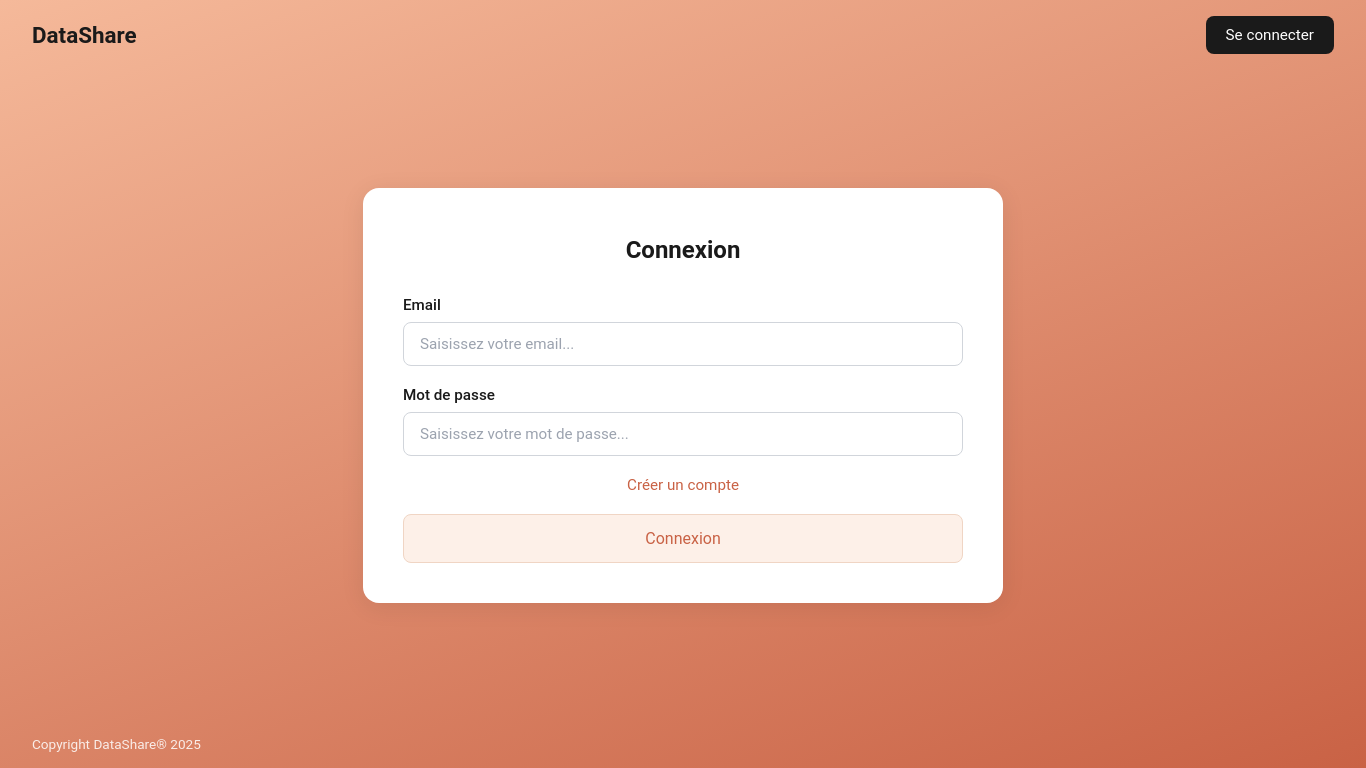
Scenario: register and login › Login with bad password
Type "fonctionalUserLogin@gmail.com" into the field named "email". click: x=683, y=344
box: [403,322,963,366]
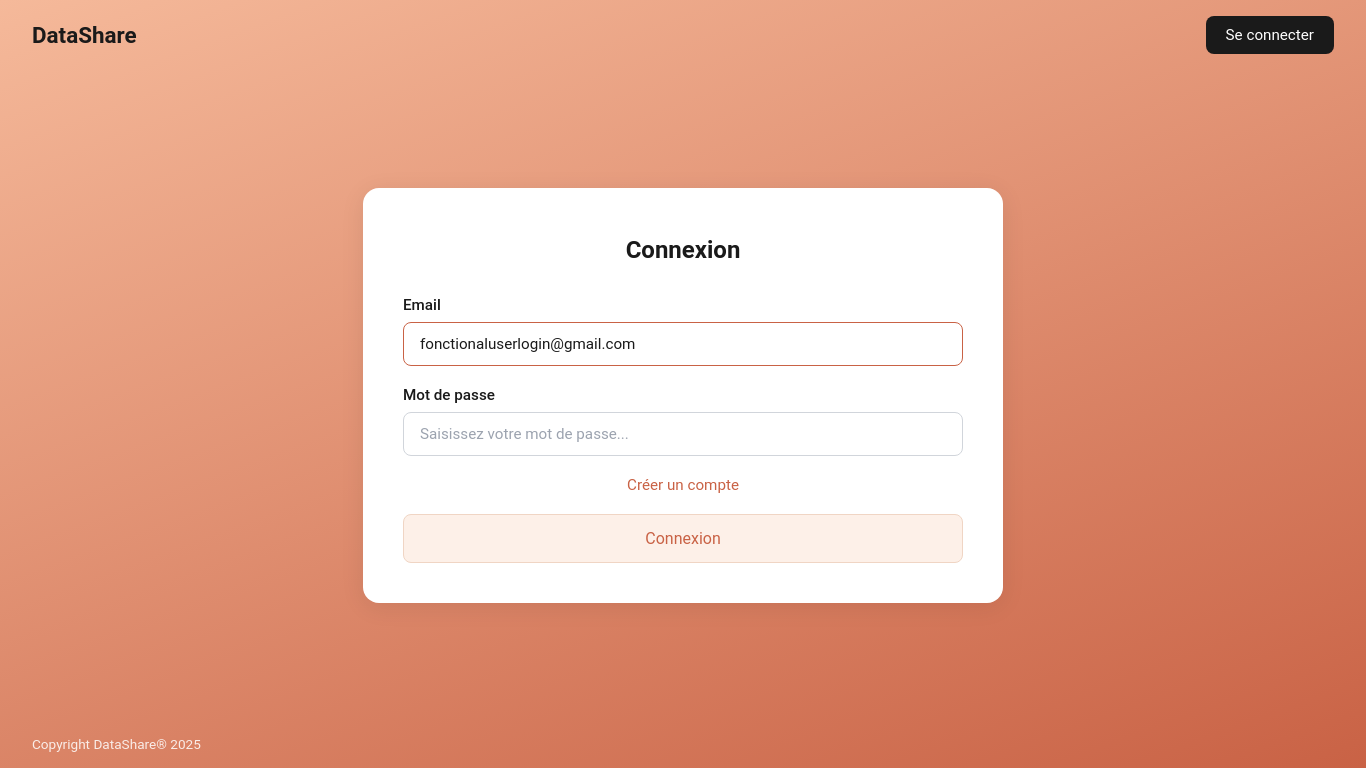
Type "badPassword" into the password field named "password". click: x=683, y=434
box: [403,412,963,456]
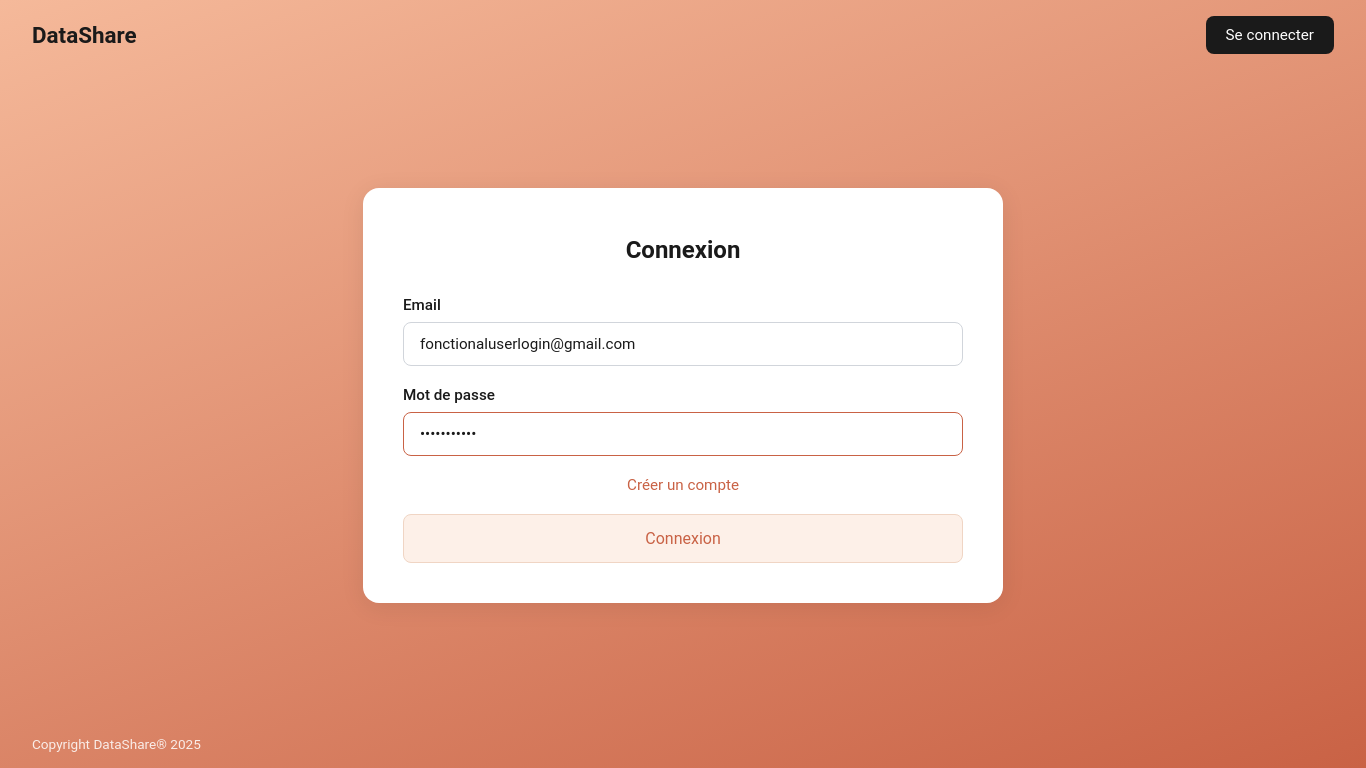
Click the button with test id "login-btn". click: x=683, y=539
box: [403,514,963,563]
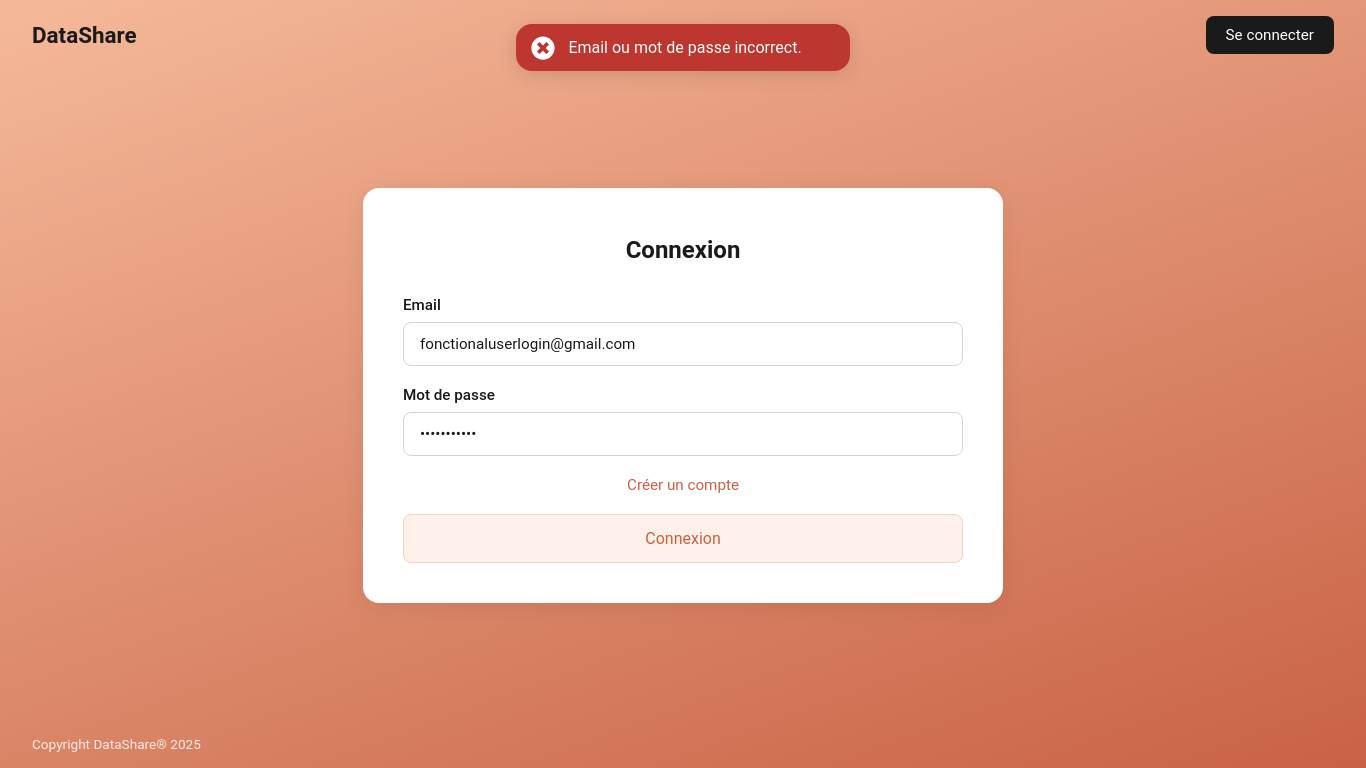
Check: the message with class "toast-error" reads "Email ou mot de passe incorrect.", box [568,38,801,57]
